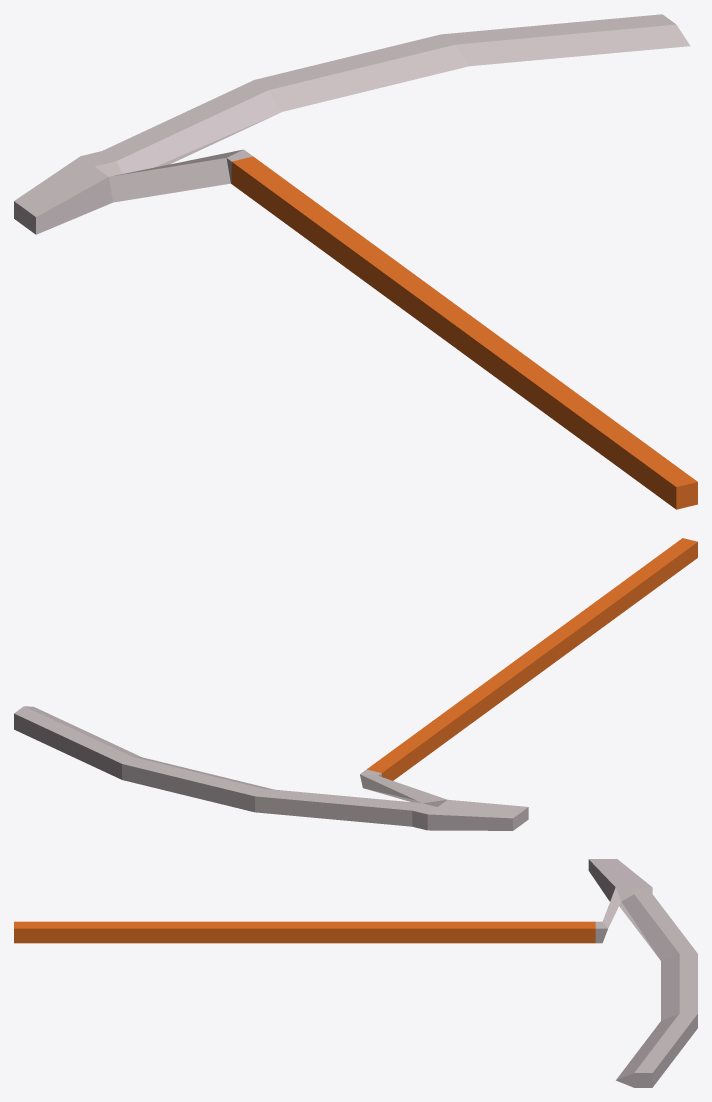
Rendered from steel_sythe.glb.
3 renders of one model, top to bottom at view 1: azimuth 30°, elevation 25°; view 2: azimuth 150°, elevation 25°; view 3: azimuth 270°, elevation 25°, orthographic. The views are drawn at different scales.
Visible parts, largest first — view 1: Cube; view 2: Cube; view 3: Cube.
Boxes of the visible parts, <box> form: Cube: <box>14,14,697,509</box>; Cube: <box>14,538,697,830</box>; Cube: <box>14,859,697,1087</box>.
Size of the model in its own units: 14.46 by 0.4621 by 19.39.
